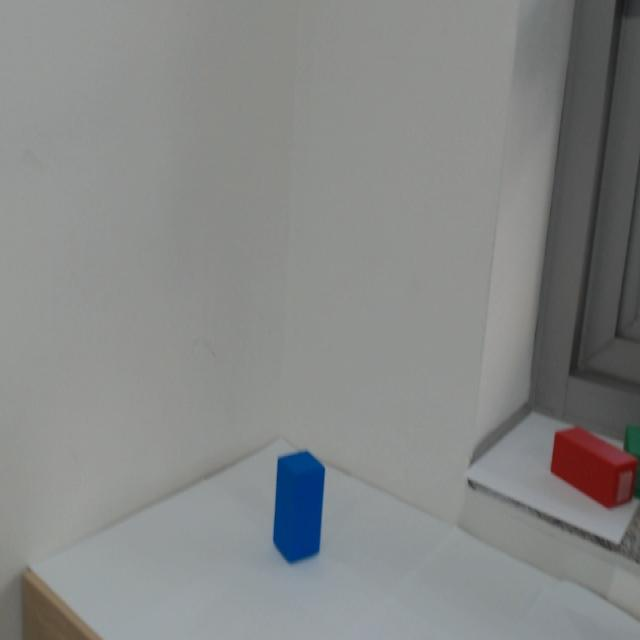cube: (261, 429, 339, 597)
